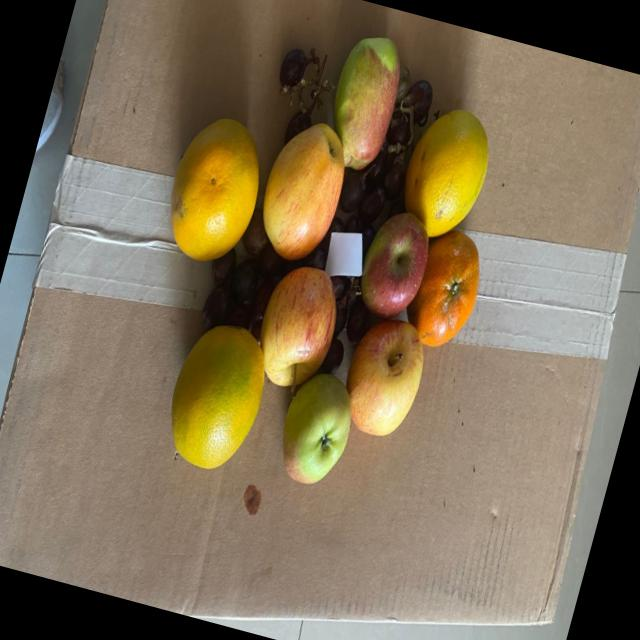hoja: (318, 218, 374, 292)
